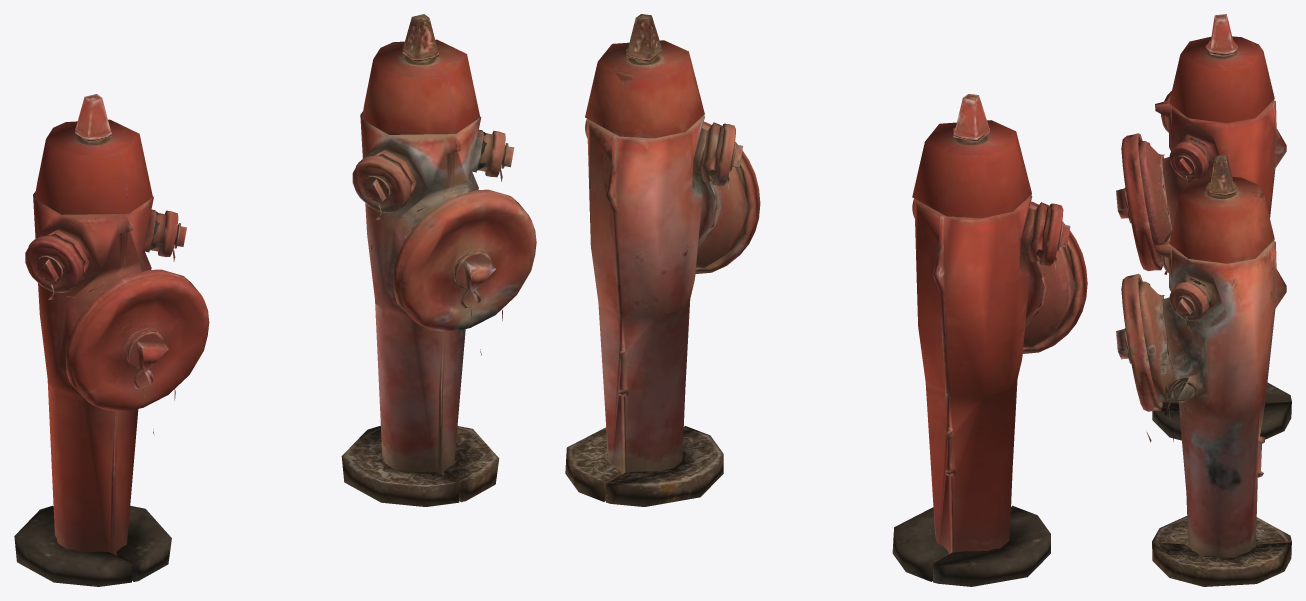
The model's file is hydrant.glb.
The picture shows the model from 3 angles, left to right: view 1: azimuth 30°, elevation 25°; view 2: azimuth 150°, elevation 25°; view 3: azimuth 270°, elevation 25°; orthographic projection. The views are drawn at different scales.
Visible parts, largest first — view 1: fire_hydrant_aged, fire_hydrant, fire_hydrant_cap_01_aged, fire_hydrant_cap_01, fire_hydrant_cap_03_aged, fire_hydrant_cap_03, fire_hydrant_cap_02_aged, fire_hydrant_cap_02; view 2: fire_hydrant_aged, fire_hydrant, fire_hydrant_cap_01_aged, fire_hydrant_cap_01, fire_hydrant_cap_03, fire_hydrant_cap_03_aged; view 3: fire_hydrant_aged, fire_hydrant, fire_hydrant_cap_01, fire_hydrant_cap_01_aged, fire_hydrant_cap_02, fire_hydrant_cap_02_aged, fire_hydrant_chain_aged.
Part boxes in pixels (left/top/right/bottom): fire_hydrant_aged: left=341, top=14, right=499, bottom=506; fire_hydrant: left=14, top=94, right=171, bottom=586; fire_hydrant_cap_01_aged: left=393, top=189, right=536, bottom=331; fire_hydrant_cap_01: left=66, top=269, right=209, bottom=411; fire_hydrant_cap_03_aged: left=352, top=155, right=411, bottom=213; fire_hydrant_cap_03: left=25, top=235, right=83, bottom=292; fire_hydrant_cap_02_aged: left=485, top=131, right=514, bottom=177; fire_hydrant_cap_02: left=158, top=210, right=186, bottom=256; fire_hydrant_aged: left=565, top=14, right=748, bottom=506; fire_hydrant: left=892, top=94, right=1075, bottom=586; fire_hydrant_cap_01_aged: left=695, top=121, right=760, bottom=274; fire_hydrant_cap_01: left=1022, top=201, right=1087, bottom=353; fire_hydrant_cap_03: left=1039, top=203, right=1070, bottom=265; fire_hydrant_cap_03_aged: left=712, top=123, right=742, bottom=186; fire_hydrant_aged: left=1139, top=154, right=1291, bottom=586; fire_hydrant: left=1139, top=14, right=1291, bottom=440; fire_hydrant_cap_01: left=1116, top=133, right=1162, bottom=270; fire_hydrant_cap_01_aged: left=1116, top=273, right=1162, bottom=411; fire_hydrant_cap_02: left=1169, top=141, right=1209, bottom=180; fire_hydrant_cap_02_aged: left=1169, top=282, right=1208, bottom=320; fire_hydrant_chain_aged: left=1146, top=289, right=1195, bottom=442.
Size of the model in its own units: 0.8746 by 0.7992 by 0.3173.
2 materials, 2 textured.
